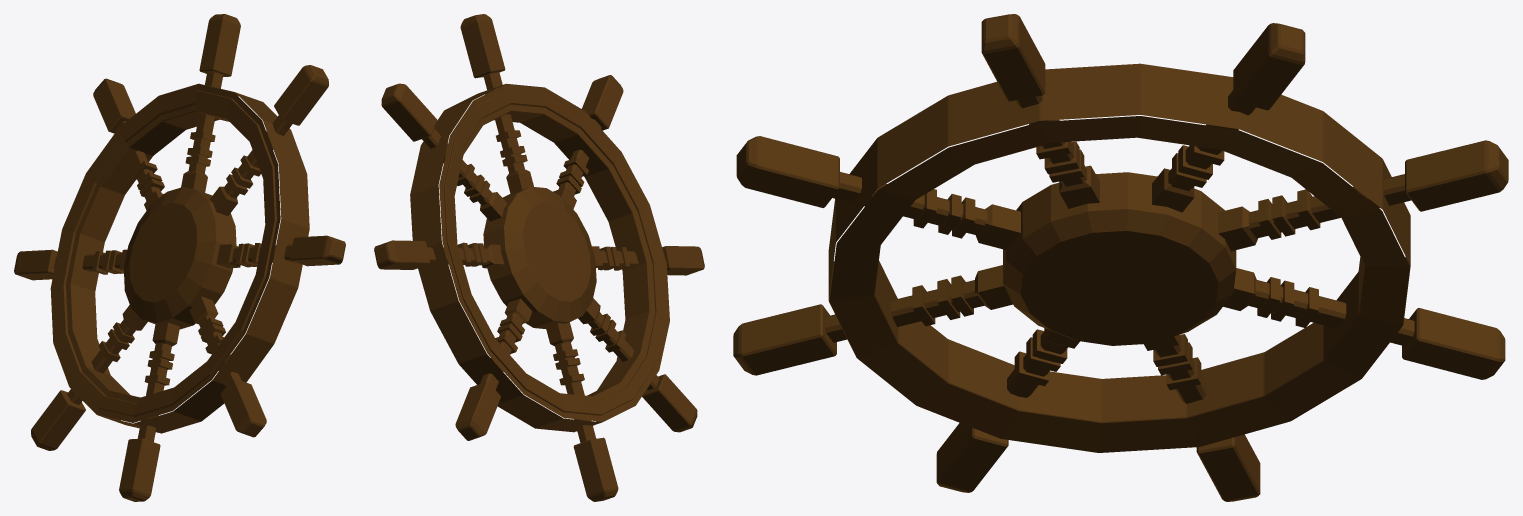
The model's file is Ret_Til_Båd.fbx.
3 views of the same model, side by side, from view 1: azimuth 30°, elevation 25°; view 2: azimuth 150°, elevation 25°; view 3: azimuth 270°, elevation 25° (orthographic). The views are drawn at different scales.
Parts seen in each view (by area): view 1: Ret; view 2: Ret; view 3: Ret.
Boxes of the visible parts, x1,y1,x2,y2 form: Ret: (14,14,345,501); Ret: (374,14,704,501); Ret: (733,14,1508,501).
Size of the model in its own units: 33.99 by 57.07 by 62.36.
